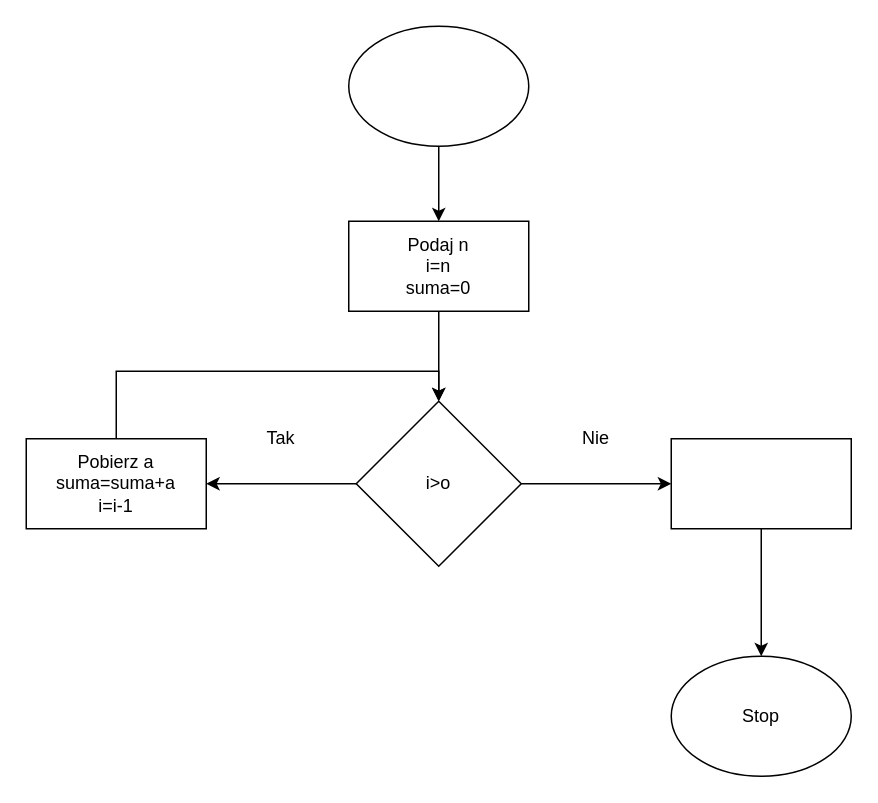
Some shapes in this 878 by 803 pixel diagram are drawn without their labels. Here are the shapes that lost their labels. From the top down, the box of each, then its label:
(347, 25, 529, 146): Start
(670, 437, 851, 529): suma/n
